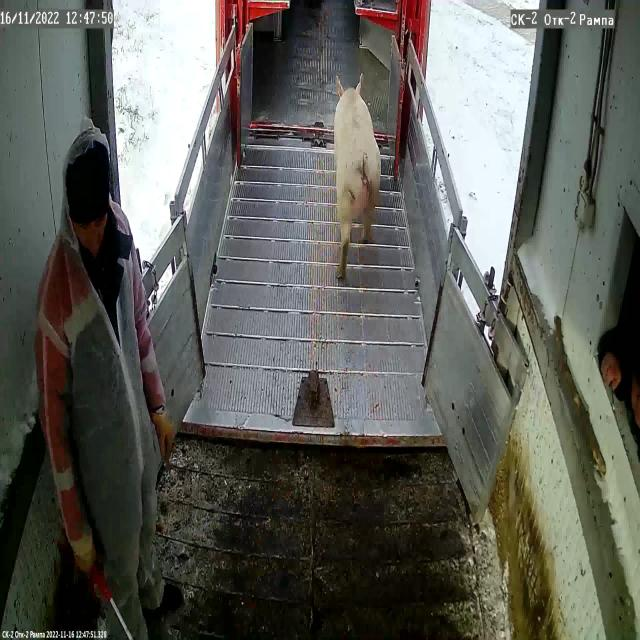pig: (334, 73, 380, 247)
